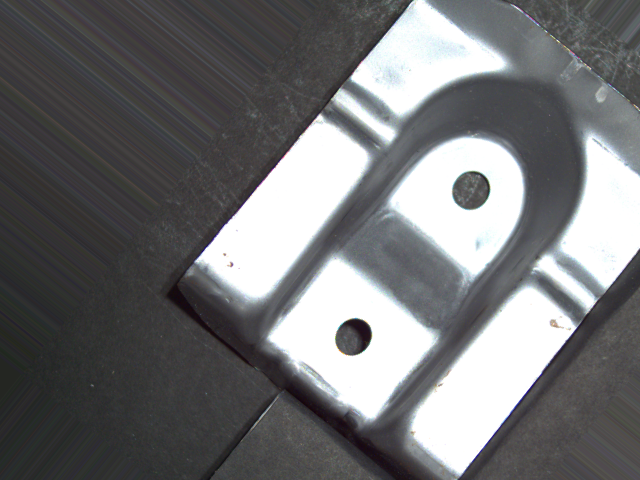defect: (449, 168, 494, 216)
